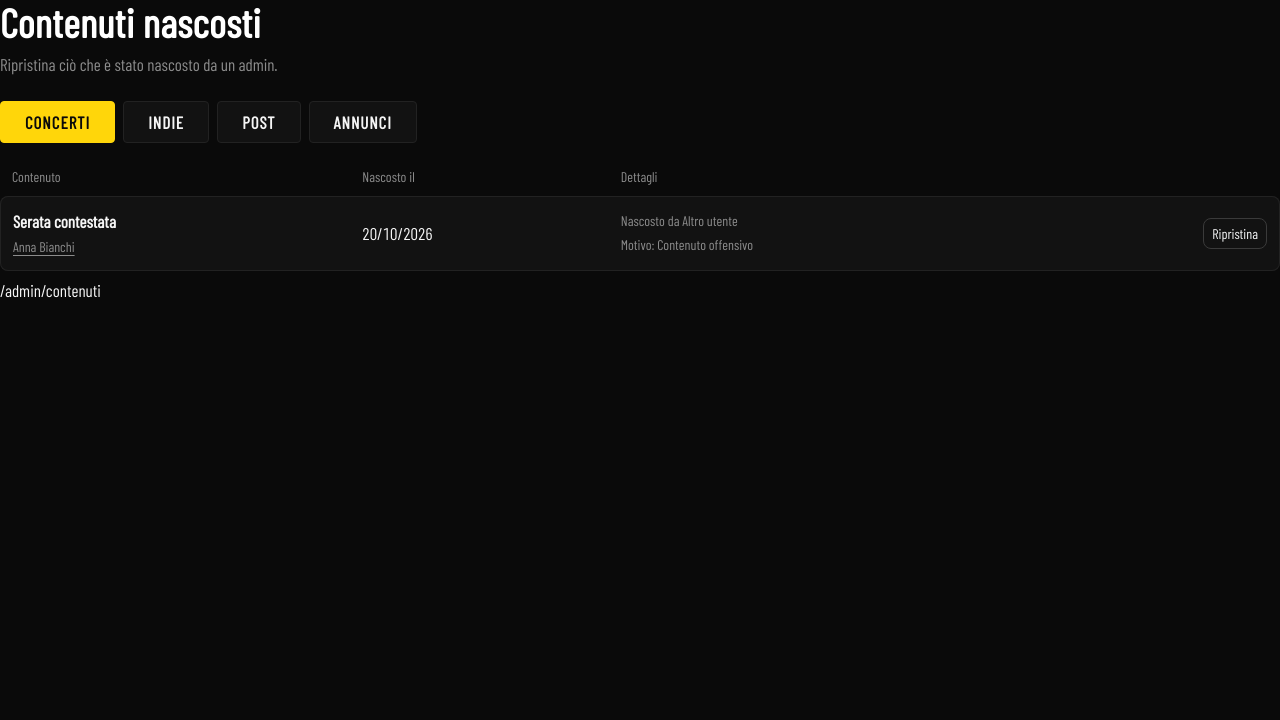
Test case: HiddenContentPage · ripristino › ripristina dopo la conferma, mostra l’avviso e ricarica l’elenco
The width and height of the screenshot is (1280, 720).
Expected: the text "Serata contestata" is shown, 13,211 -> 116,231
Click the button "Ripristina": (1235, 233) 1203,218 -> 1267,248
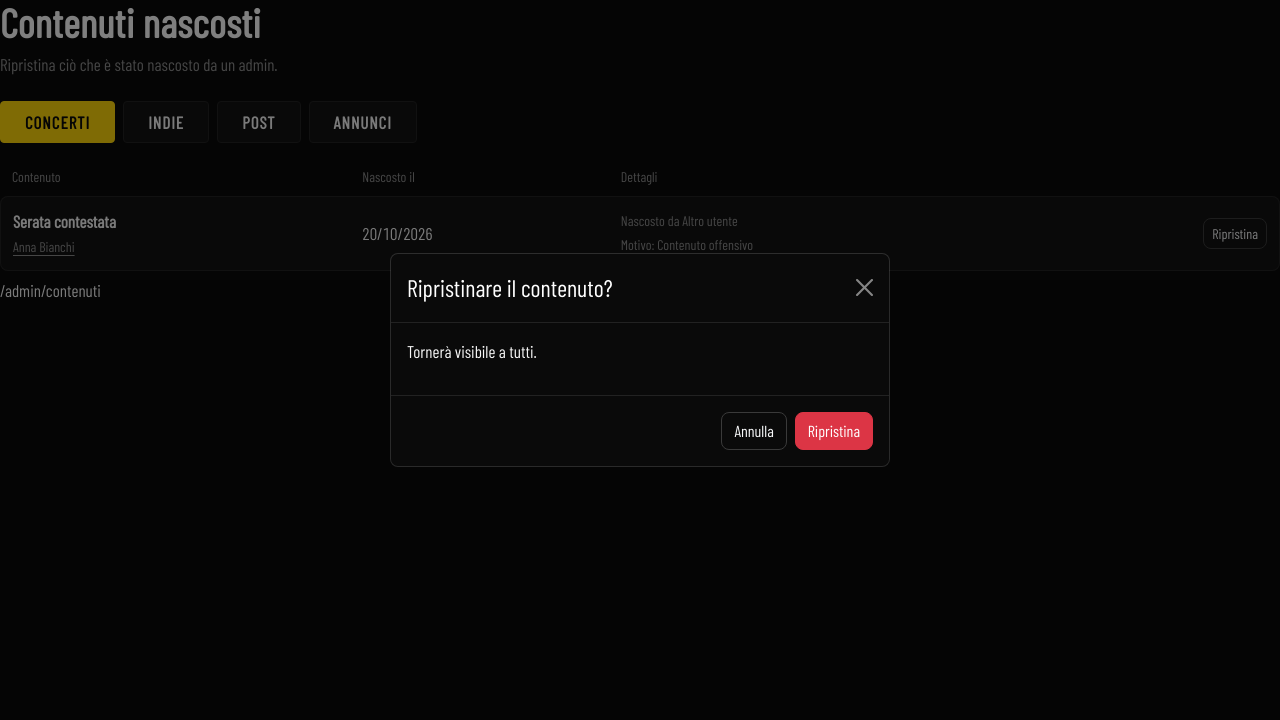
Expected: the text "Tornerà visibile a tutti." is shown, 407,341 -> 537,361
Click the button "Ripristina": (834, 431) 795,412 -> 873,450
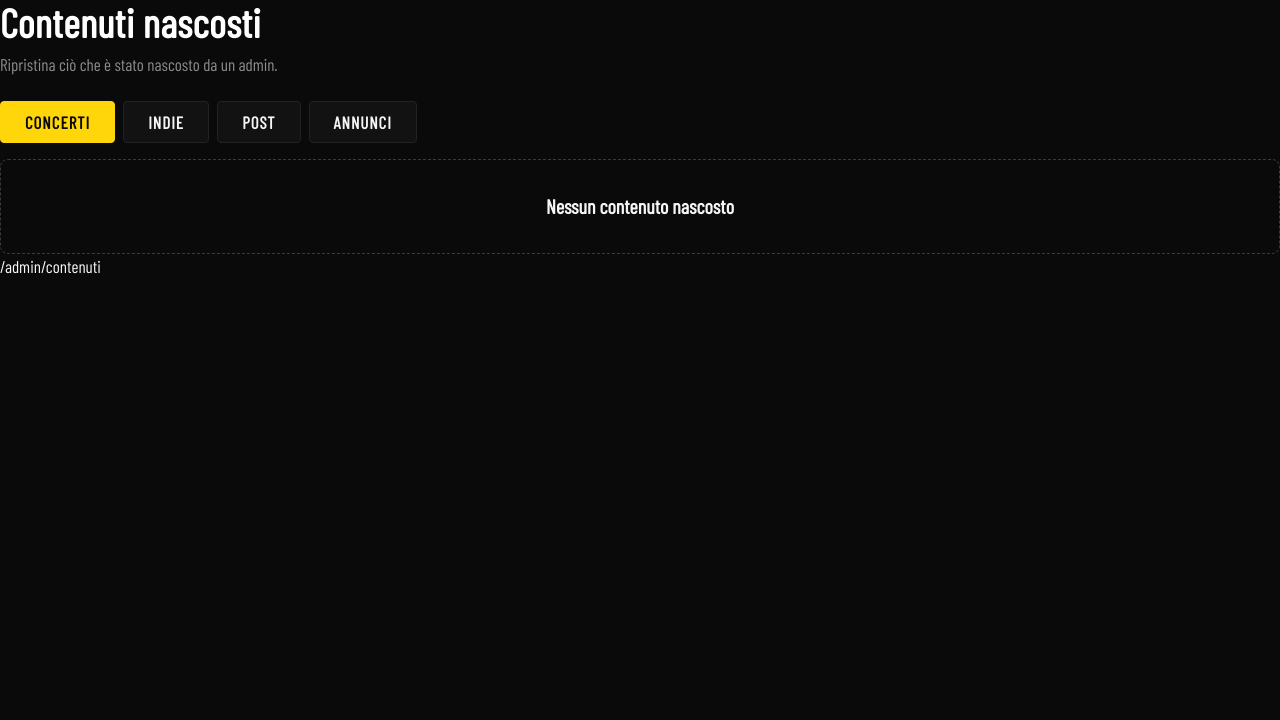
Expected: the text "Nessun contenuto nascosto" is shown, 546,194 -> 734,218
